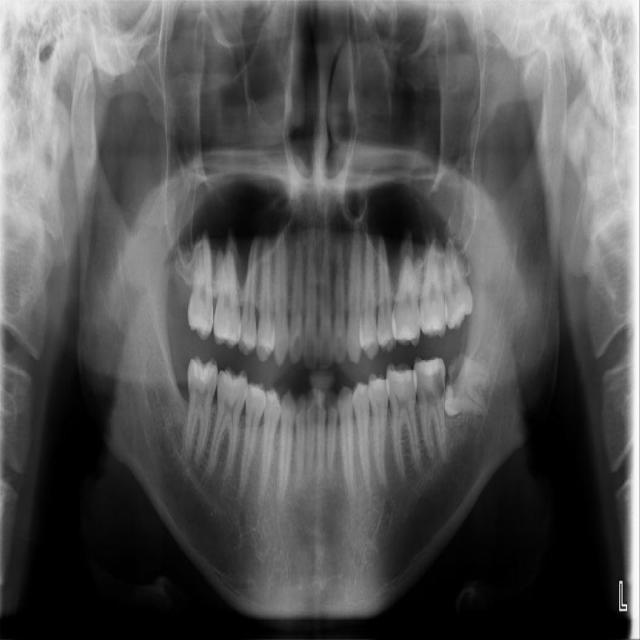Caries: (447, 355, 466, 399), (435, 369, 444, 397)
Filling: (447, 303, 467, 329), (415, 358, 443, 376), (192, 362, 214, 383), (396, 325, 417, 340), (423, 314, 441, 331), (391, 369, 412, 382)
